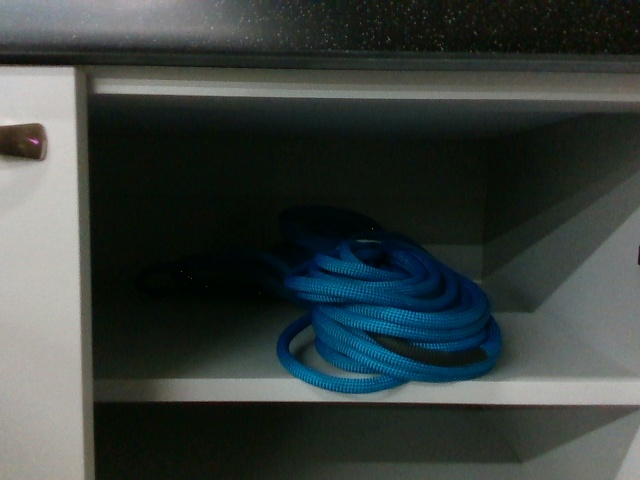rope: (270, 210, 508, 395)
